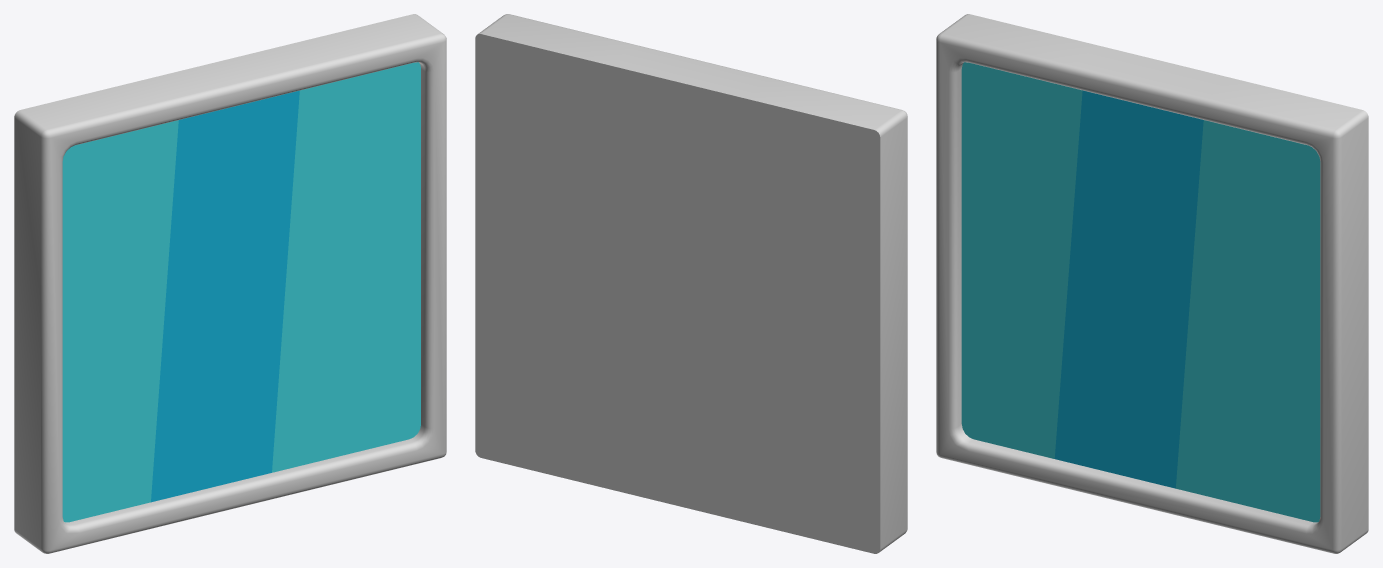
File: cam1.fbx
The picture shows the model from 3 angles, left to right: view 1: azimuth 30°, elevation 25°; view 2: azimuth 150°, elevation 25°; view 3: azimuth 330°, elevation 25°; orthographic projection.
Parts seen in each view (by area): view 1: cam1; view 2: cam1; view 3: cam1.
Part boxes in pixels (bbox=[...]): cam1: bbox=[14, 14, 446, 553]; cam1: bbox=[475, 14, 907, 553]; cam1: bbox=[936, 14, 1368, 553].
Size of the model in its own units: 200 by 200 by 25.76.
